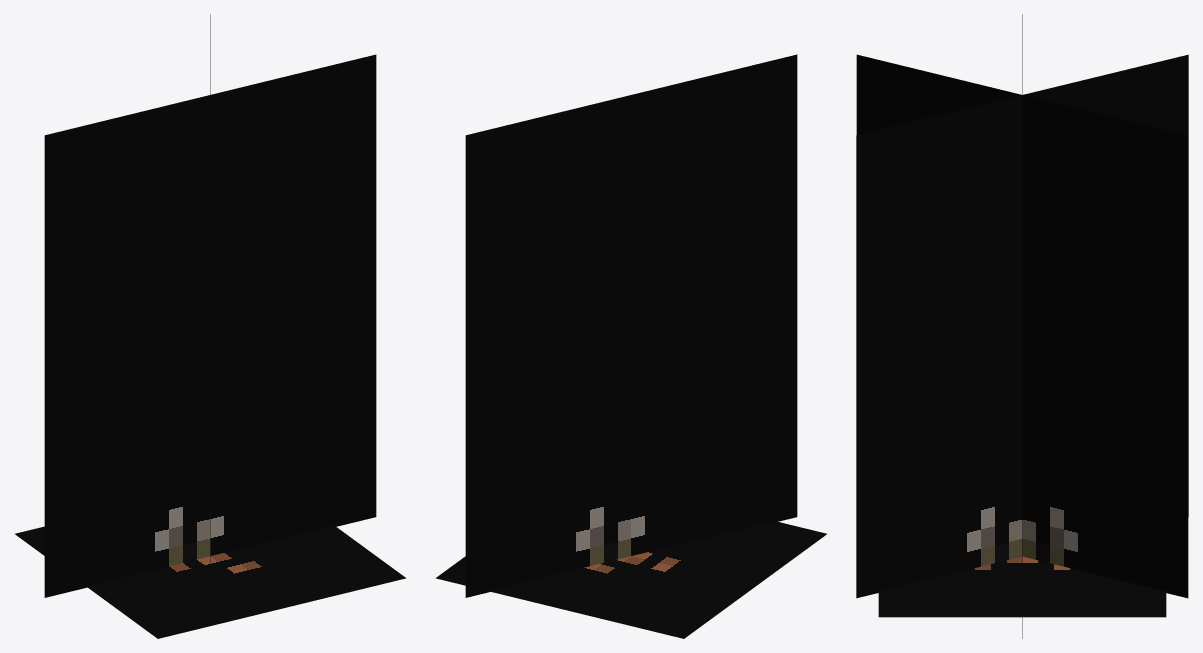
File: dandelion_seed.gltf
3 renders of one model, left to right at view 1: azimuth 30°, elevation 25°; view 2: azimuth 150°, elevation 25°; view 3: azimuth 270°, elevation 25°, orthographic.
Parts seen in each view (by area): view 1: Plane.201; view 2: Plane.201; view 3: Plane.201.
Part boxes in pixels (left/top/right/bottom): Plane.201: left=15, top=14, right=405, bottom=638; Plane.201: left=436, top=54, right=826, bottom=638; Plane.201: left=856, top=14, right=1188, bottom=638.
Bounding box in the file's own units: 2.4 × 3.2 × 2.08.
2 materials, 2 textured.
